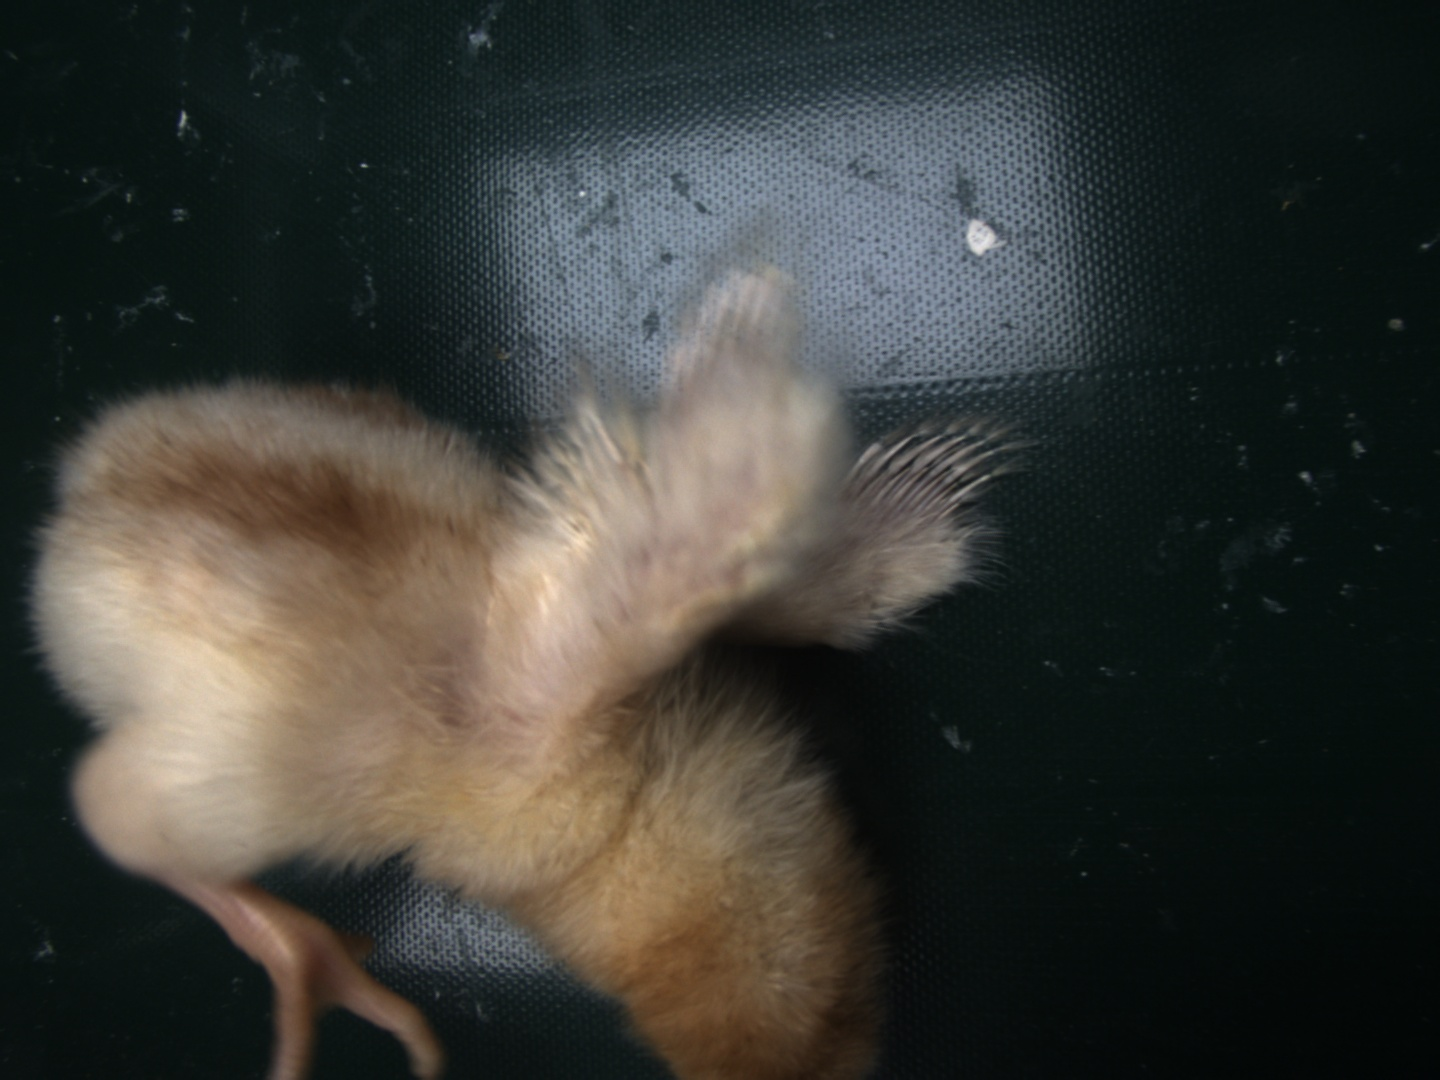female: (842, 419, 1002, 528)
